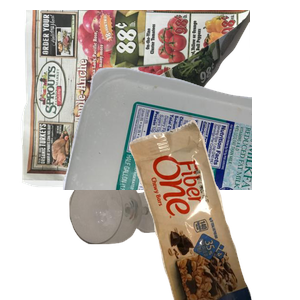glass: (67, 172, 229, 300)
paper: (18, 10, 258, 190)
plastic: (60, 65, 300, 245)
trash: (127, 120, 300, 300)
